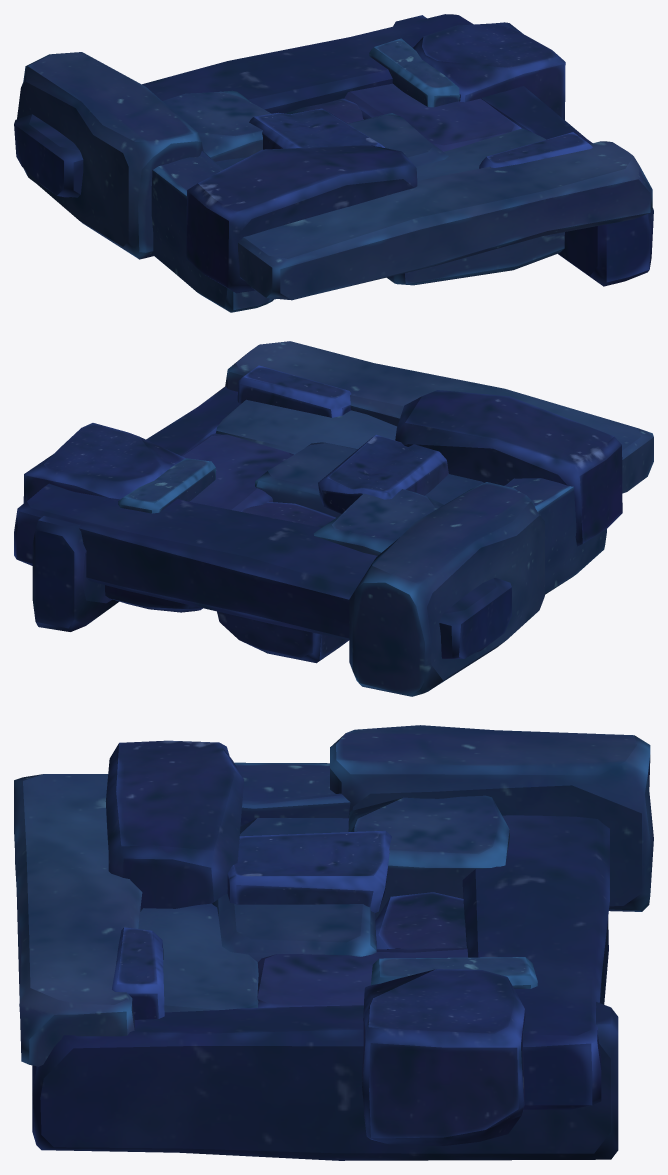
File: msh_stone Foothold3.fbx
3 renders of one model, top to bottom at view 1: azimuth 30°, elevation 25°; view 2: azimuth 150°, elevation 25°; view 3: azimuth 270°, elevation 25°, orthographic. The views are drawn at different scales.
Parts seen in each view (by area): view 1: Box035; view 2: Box035; view 3: Box035.
Boxes of the visible parts, <box> form: Box035: <box>14,14,653,312</box>; Box035: <box>14,341,653,696</box>; Box035: <box>14,725,653,1160</box>.
Bounding box in the file's own units: 418 × 148 × 387.
